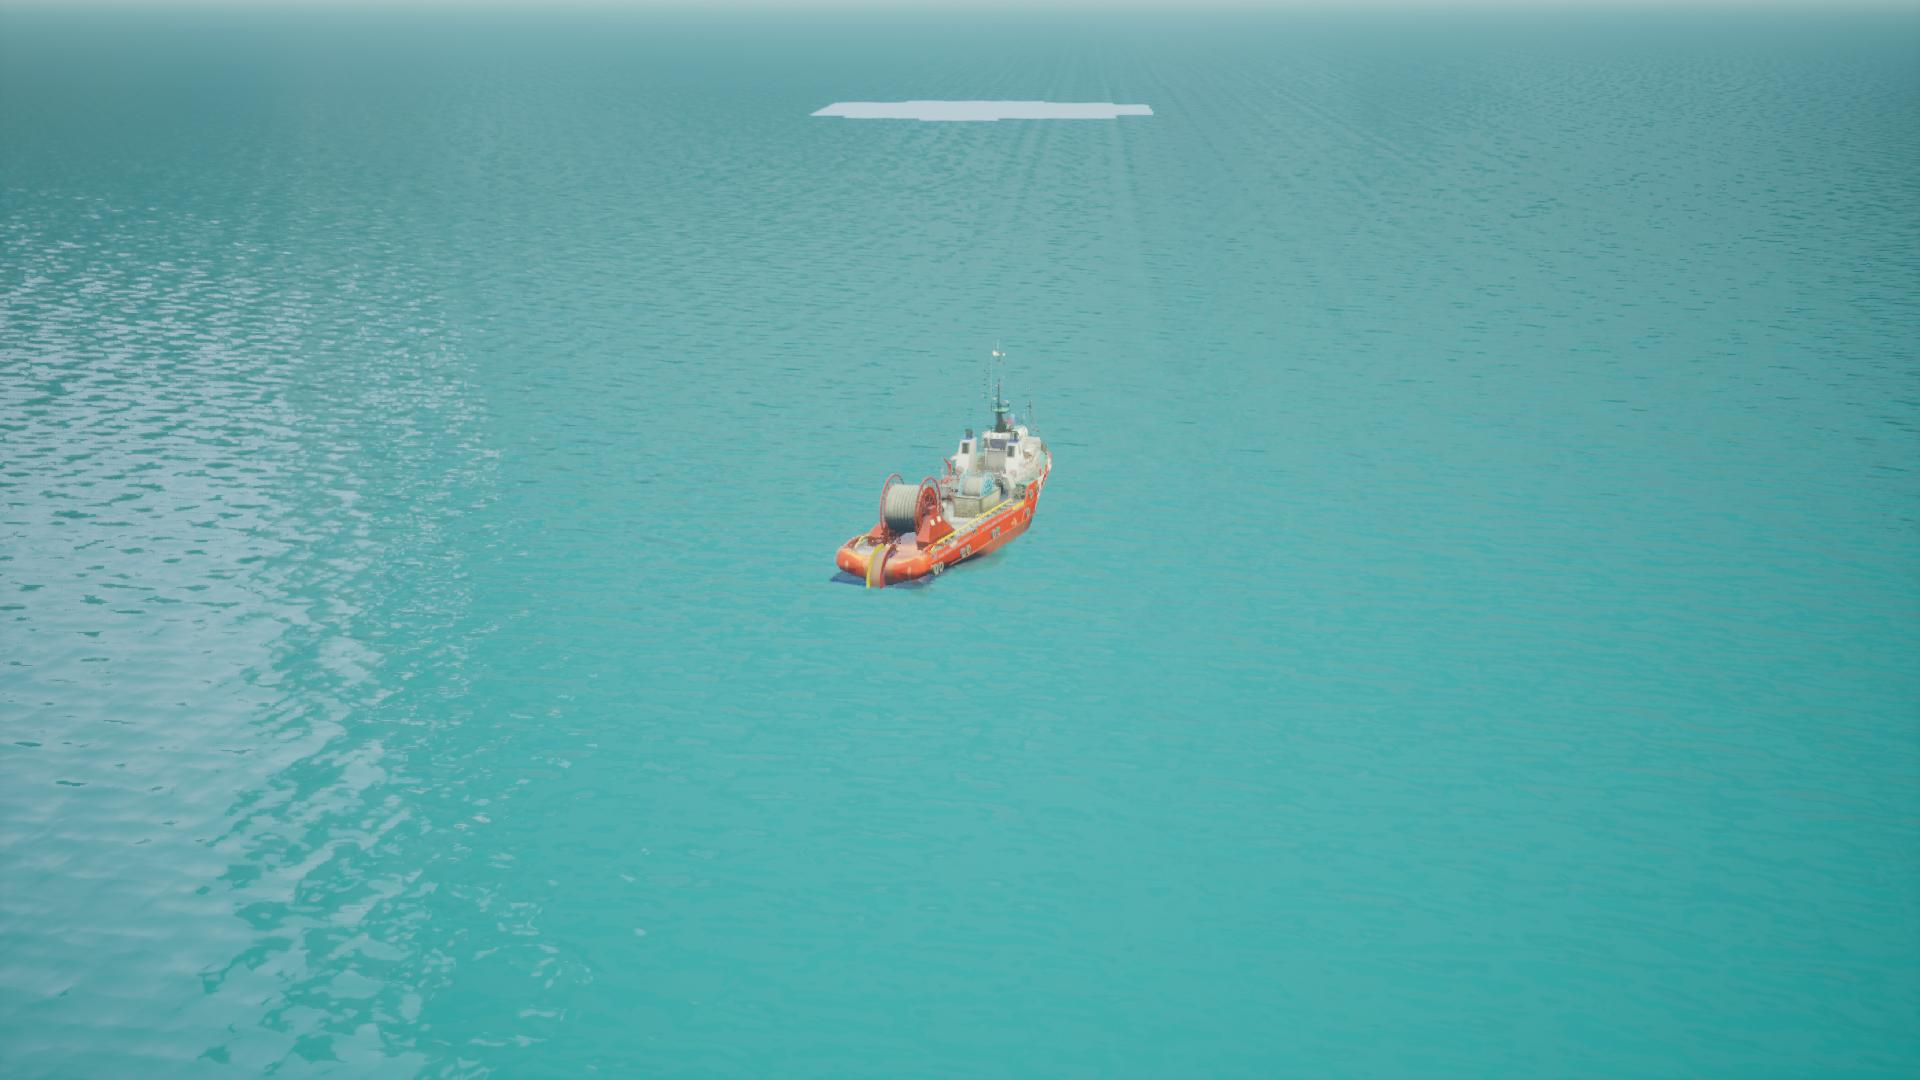Tug Boat: (852, 372, 1052, 591)
